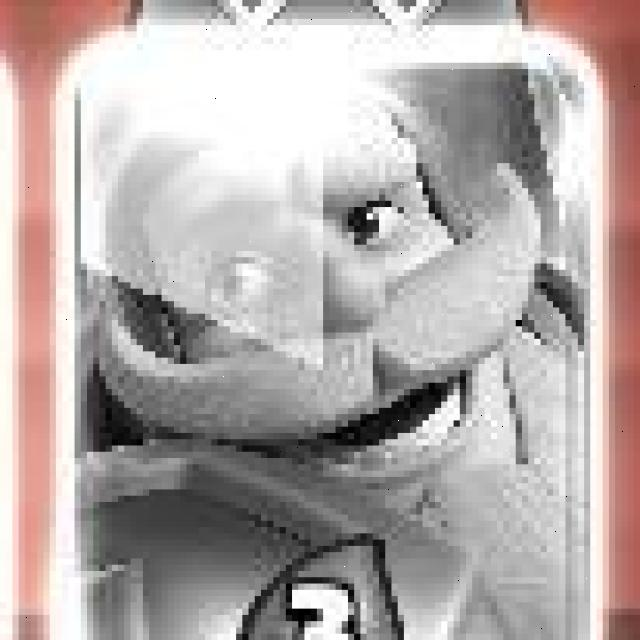Evolved_Knight: (51, 30, 616, 640)
